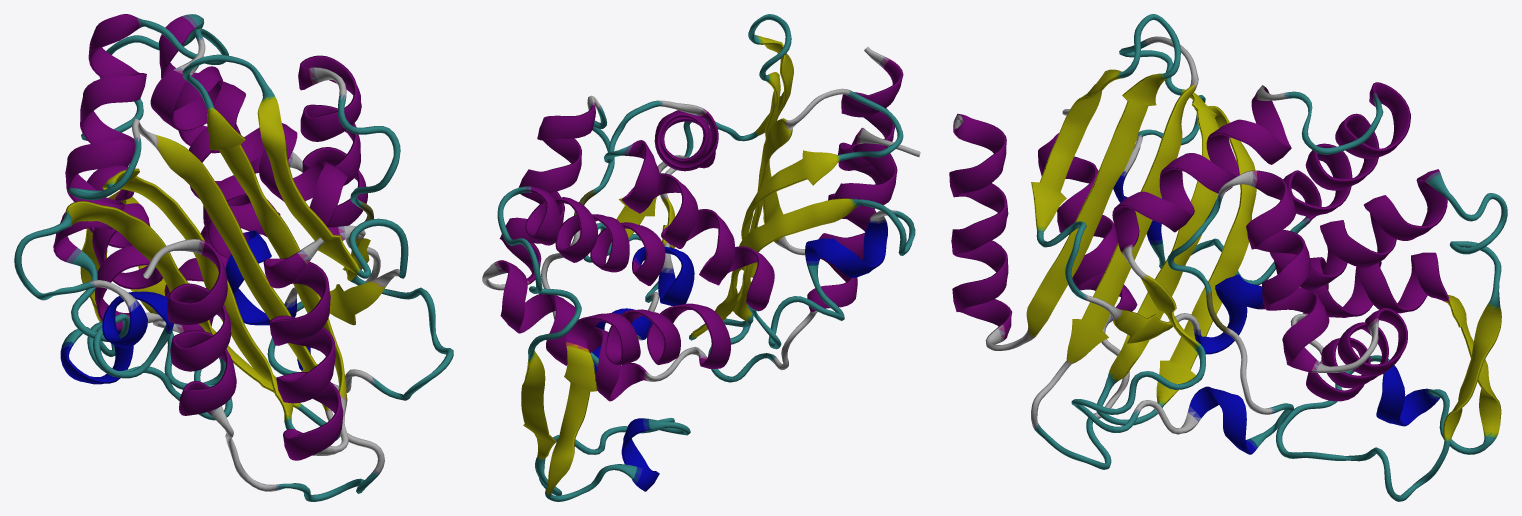
Rendered from animate.0016.obj.
3 views of the same model, side by side, from view 1: azimuth 30°, elevation 25°; view 2: azimuth 150°, elevation 25°; view 3: azimuth 270°, elevation 25° (orthographic). The views are drawn at different scales.
Visible parts, largest first — view 1: vmd_mol0_rep0; view 2: vmd_mol0_rep0; view 3: vmd_mol0_rep0.
Part boxes in pixels (x1,y1,x2,y2): vmd_mol0_rep0: (14,14,453,501); vmd_mol0_rep0: (482,14,920,501); vmd_mol0_rep0: (949,14,1507,501).
Size of the model in its own units: 1.01 by 1.12 by 1.32.
